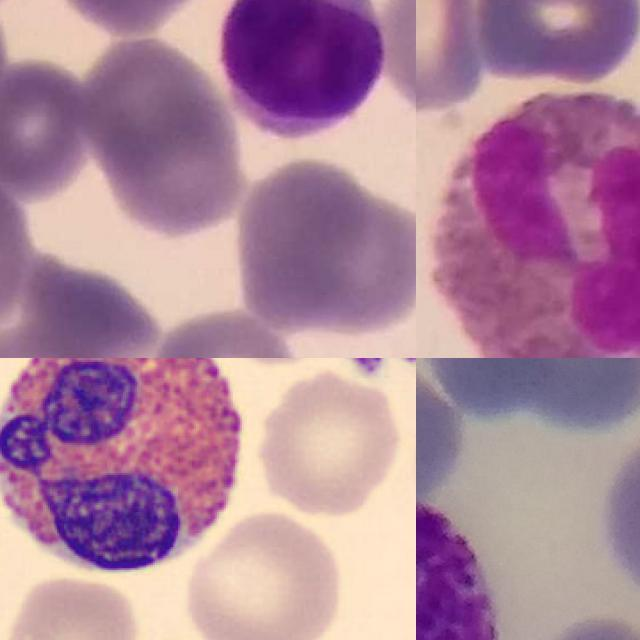Eosinophil: (0, 358, 261, 587), (427, 86, 640, 358)
Lymphocyte: (220, 0, 385, 138)
Platelets: (341, 358, 389, 379)
RBC: (253, 367, 407, 519), (181, 508, 346, 640), (0, 572, 140, 640)
